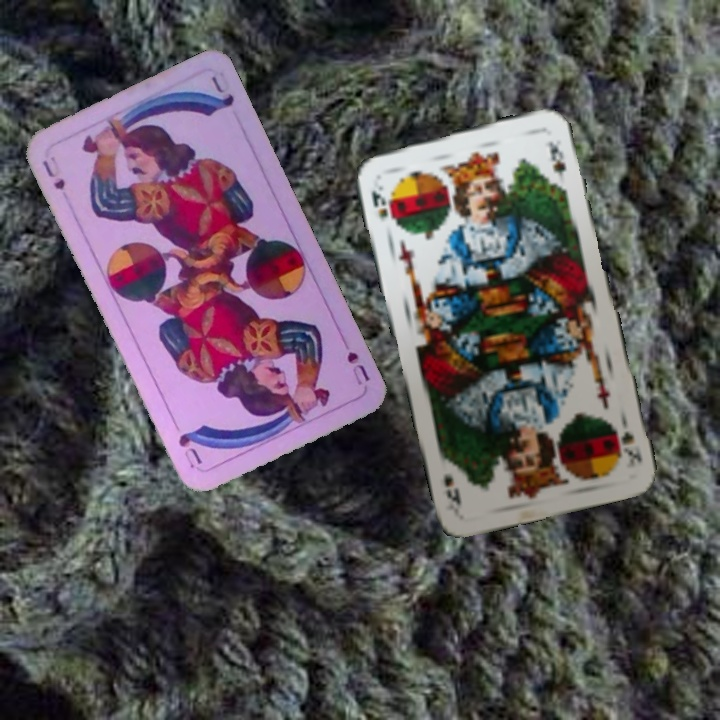SK: (617, 412, 645, 471), (367, 181, 391, 221)
SU: (336, 333, 372, 388), (38, 156, 68, 193)
